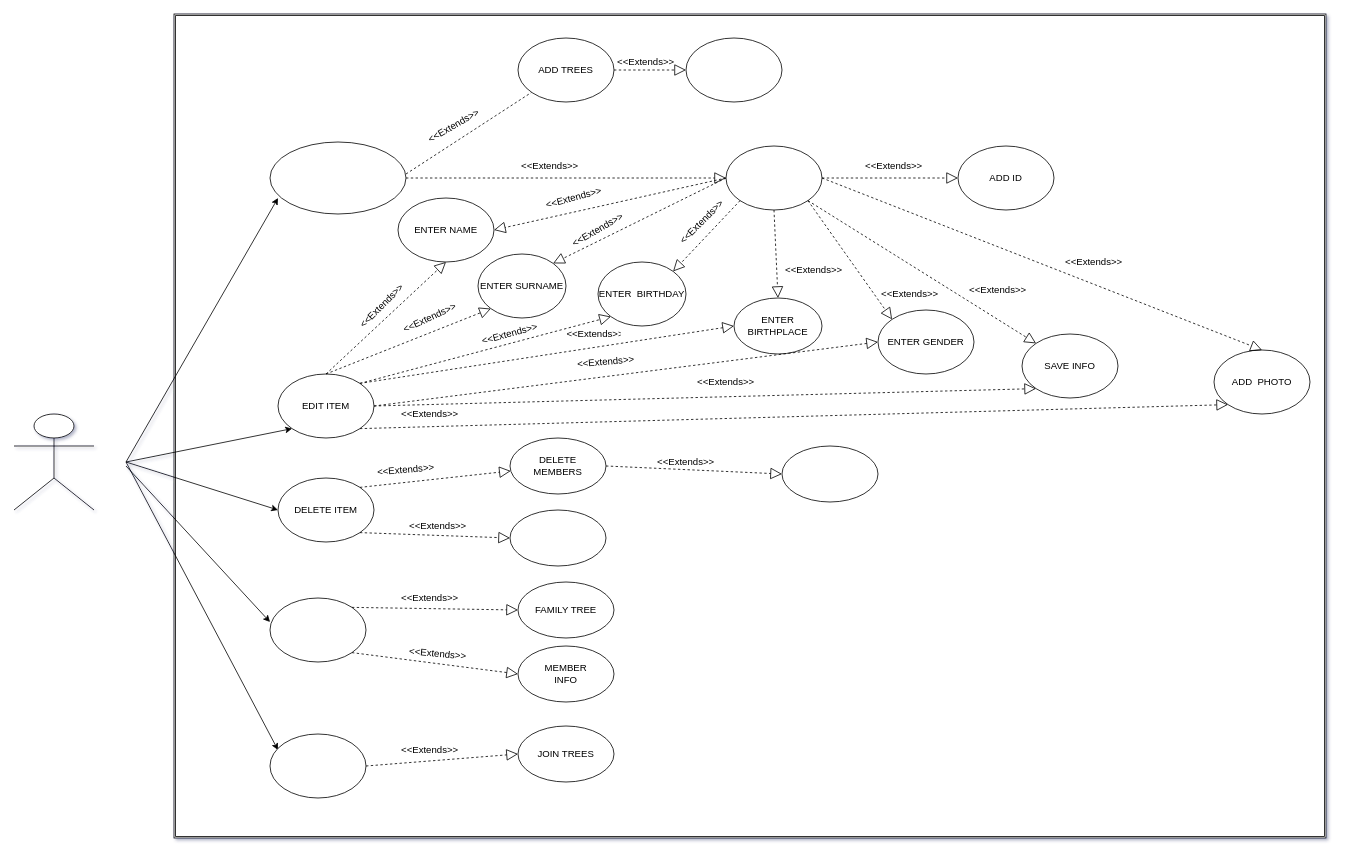
The diagram is 1345 pixels wide and 857 high, and some of its shapes have lost their labels. The shapes that lost their labels are listed below. From the top down, each one's box as (x1, y1, x2, y2) in pixels, then its label:
(685, 37, 782, 102): ADD SURNAME
(269, 141, 406, 214): ADD ITEM
(725, 145, 822, 210): ADD MEMBERS
(13, 413, 94, 510): USER
(781, 445, 878, 502): DELETE ID
(509, 509, 606, 566): DELETE TREES
(269, 597, 366, 662): DISPLAY
(269, 733, 366, 798): JOIN
